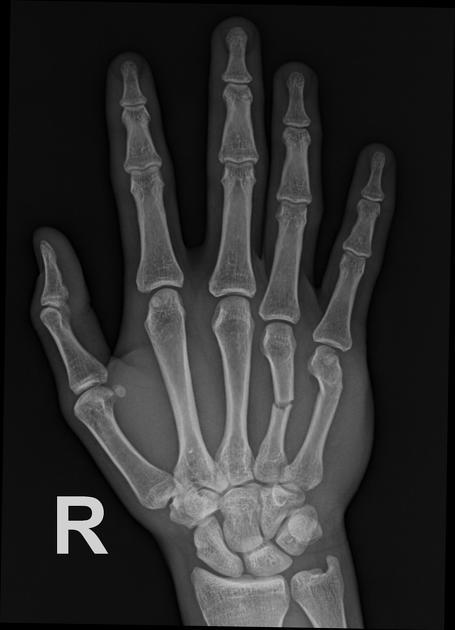fractured: (268, 398, 296, 410)
